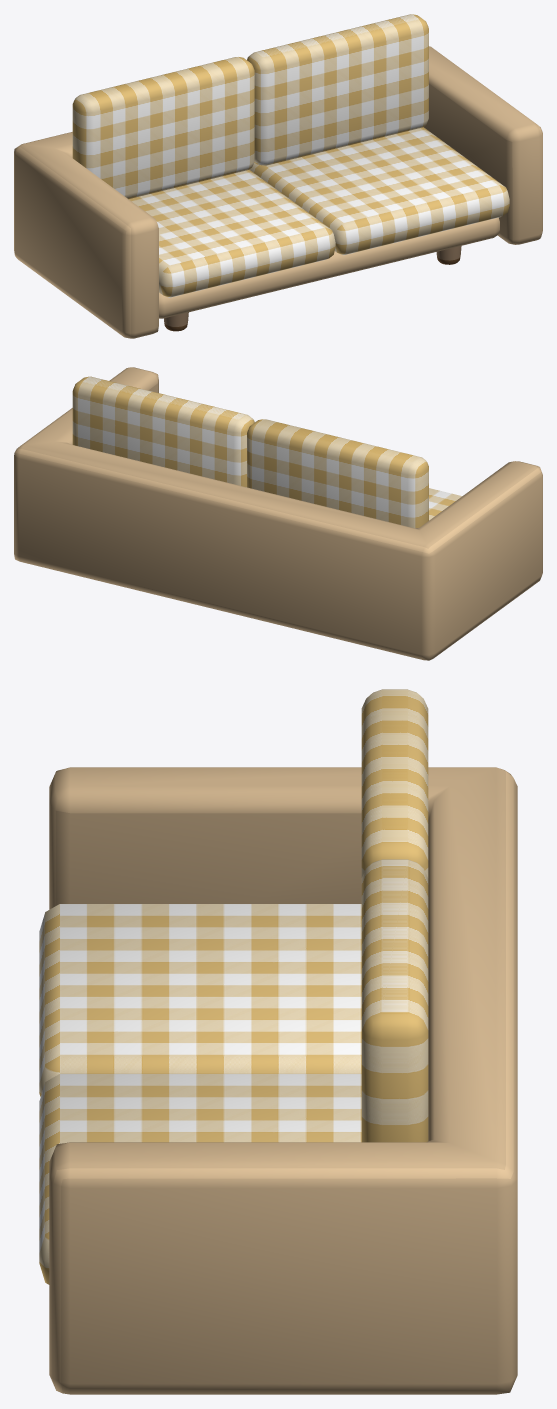
The model's file is Couch.fbx.
3 renders of one model, top to bottom at view 1: azimuth 30°, elevation 25°; view 2: azimuth 150°, elevation 25°; view 3: azimuth 270°, elevation 25°, orthographic. The views are drawn at different scales.
Parts seen in each view (by area): view 1: Couch, Couch.002, Couch.001, Couch.003, Couch.020, Couch.005; view 2: Couch, Couch.001, Couch.002, Couch.020; view 3: Couch, Couch.020, Couch.003, Couch.002, Couch.001.
Part boxes in pixels (x1,y1,x2,y2): Couch: (14, 46, 542, 338); Couch.002: (247, 14, 428, 165); Couch.001: (72, 57, 254, 199); Couch.003: (249, 127, 509, 255); Couch.020: (129, 169, 335, 297); Couch.005: (159, 217, 499, 318); Couch: (14, 367, 542, 660); Couch.001: (247, 419, 428, 528); Couch.002: (72, 376, 254, 487); Couch.020: (429, 488, 461, 520); Couch: (49, 767, 517, 1394); Couch.020: (39, 904, 361, 1096); Couch.003: (39, 1073, 361, 1284); Couch.002: (361, 859, 428, 1142); Couch.001: (361, 689, 428, 877).
Bounding box in the file's own units: 470 × 205 × 231.
